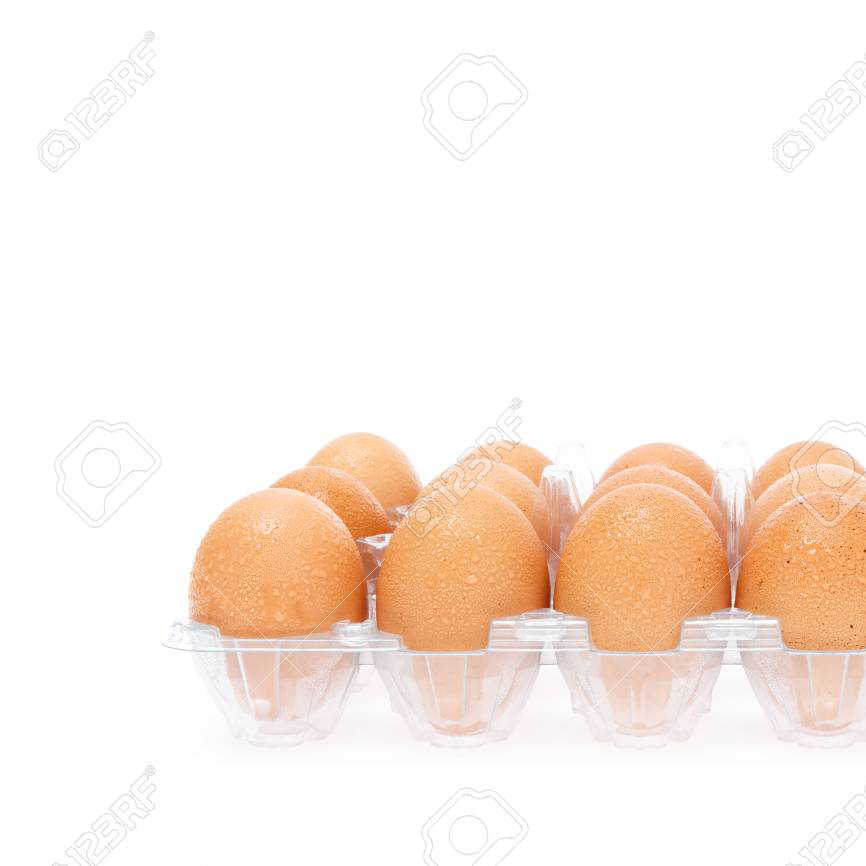egg: (192, 433, 865, 660)
